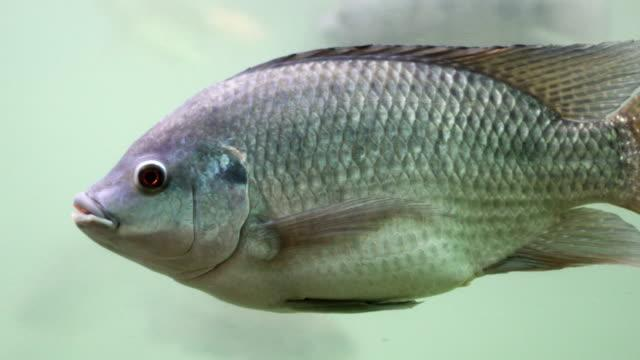Tilapia: (71, 42, 640, 314)
